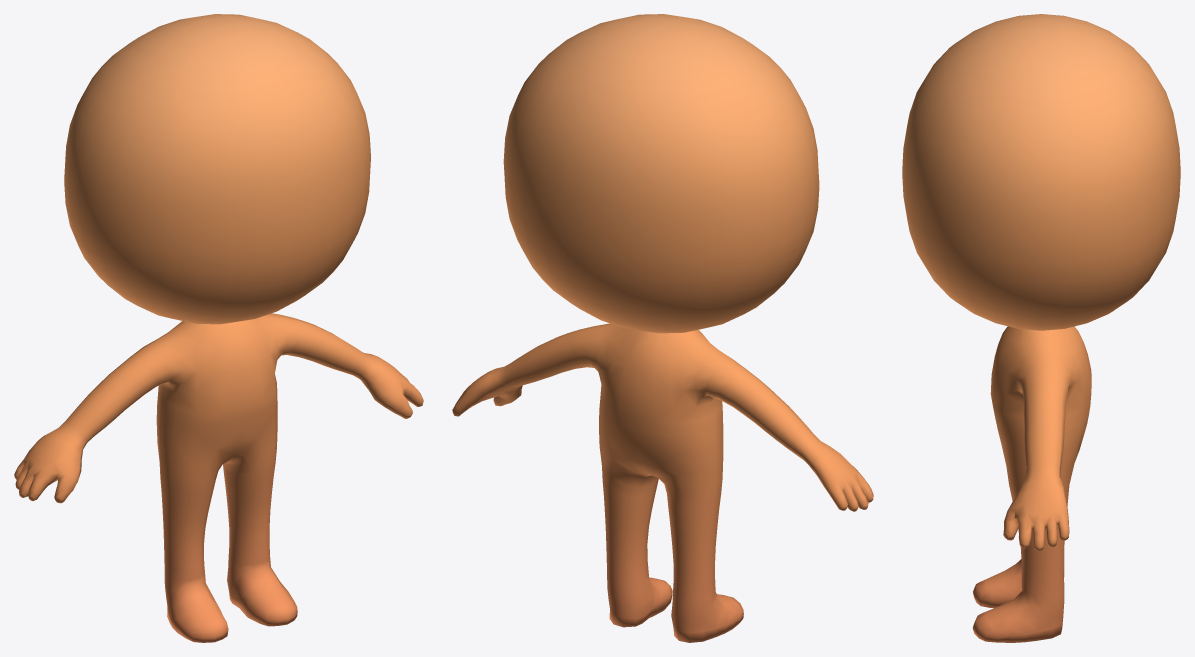
The model's file is Test_body_01.glb.
The picture shows the model from 3 angles, left to right: view 1: azimuth 30°, elevation 25°; view 2: azimuth 150°, elevation 25°; view 3: azimuth 270°, elevation 25°; orthographic projection. The views are drawn at different scales.
Parts seen in each view (by area): view 1: Test_body_01; view 2: Test_body_01; view 3: Test_body_01.
Boxes of the visible parts, x1=… form: Test_body_01: x1=14, y1=14, x2=423, y2=642; Test_body_01: x1=452, y1=14, x2=873, y2=642; Test_body_01: x1=902, y1=14, x2=1180, y2=642.
Size of the model in its own units: 0.828 by 1.15 by 0.4965.
Materials: 1 (1 with a texture image).
